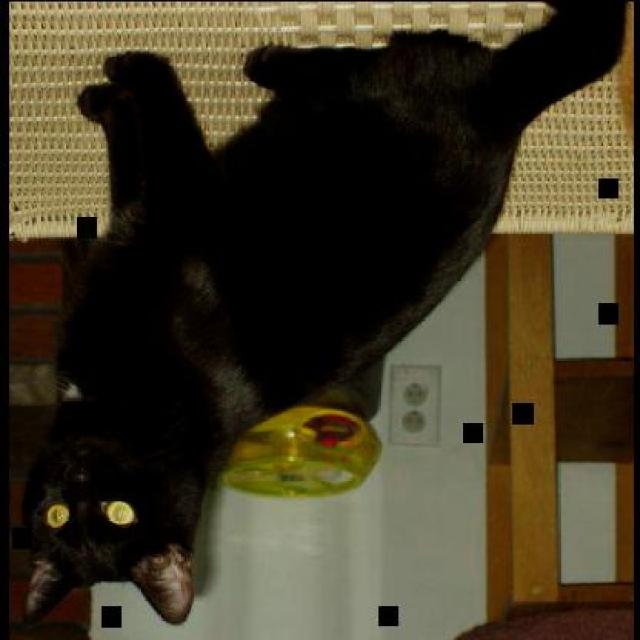unauthorized: (19, 0, 626, 628)
